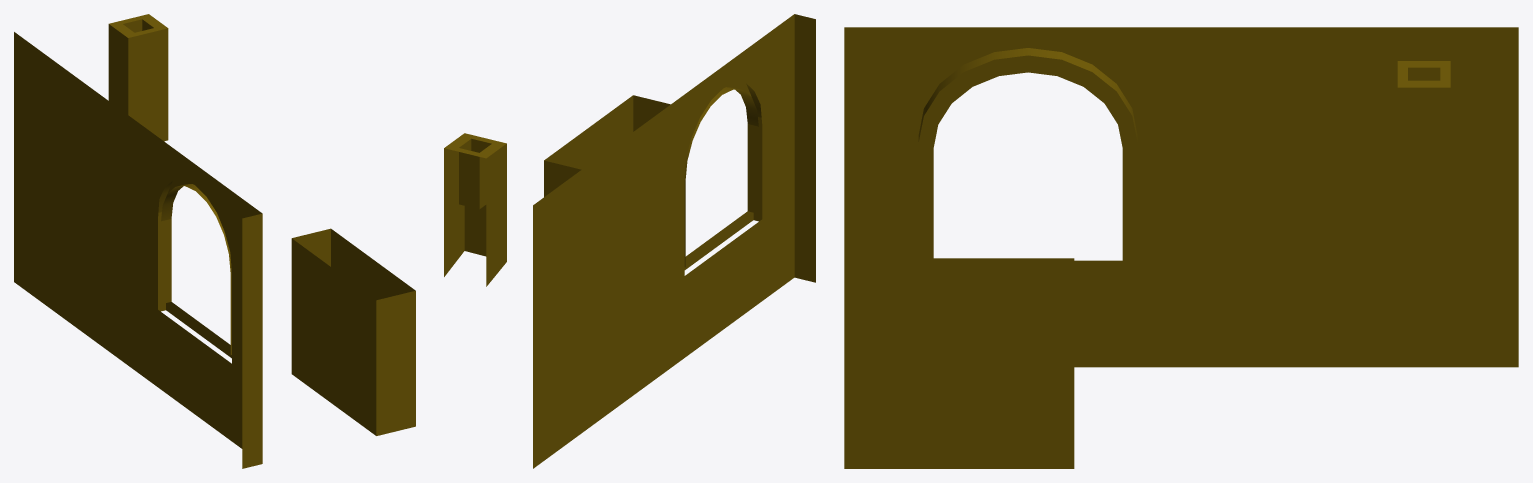
The model's file is brickedRedo.fbx.
3 views of the same model, side by side, from view 1: azimuth 30°, elevation 25°; view 2: azimuth 150°, elevation 25°; view 3: azimuth 270°, elevation 25° (orthographic). The views are drawn at different scales.
Parts seen in each view (by area): view 1: polySurface19, pCube5, pCube7, polySurface17; view 2: polySurface19, pCube7, pCube5, polySurface17; view 3: polySurface19, pCube5, polySurface17, pCube7.
Part boxes in pixels (left/top/right/bottom): polySurface19: left=14, top=32, right=262, bottom=468; pCube5: left=291, top=228, right=415, bottom=435; pCube7: left=108, top=14, right=168, bottom=141; polySurface17: left=158, top=179, right=231, bottom=358; polySurface19: left=533, top=14, right=815, bottom=468; pCube7: left=444, top=133, right=506, bottom=286; pCube5: left=544, top=95, right=670, bottom=196; polySurface17: left=684, top=82, right=762, bottom=269; polySurface19: left=844, top=27, right=1518, bottom=367; pCube5: left=844, top=258, right=1074, bottom=468; polySurface17: left=918, top=48, right=1137, bottom=277; pCube7: left=1397, top=61, right=1450, bottom=254.
Size of the model in its own units: 3.09 by 4.42 by 7.66.
